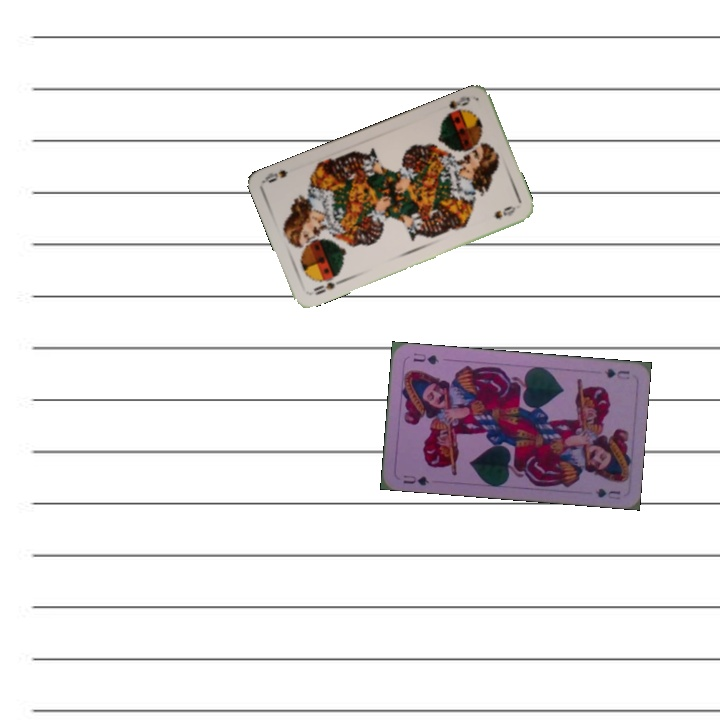GU: (399, 471, 432, 488), (600, 365, 632, 382)
SO: (309, 271, 345, 298), (440, 92, 473, 121)
